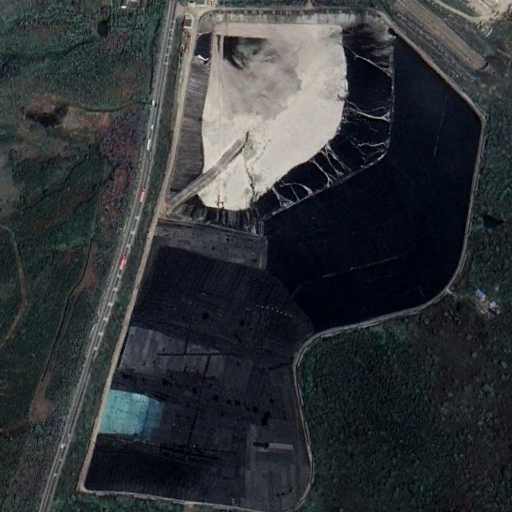lf: (75, 10, 486, 512)
